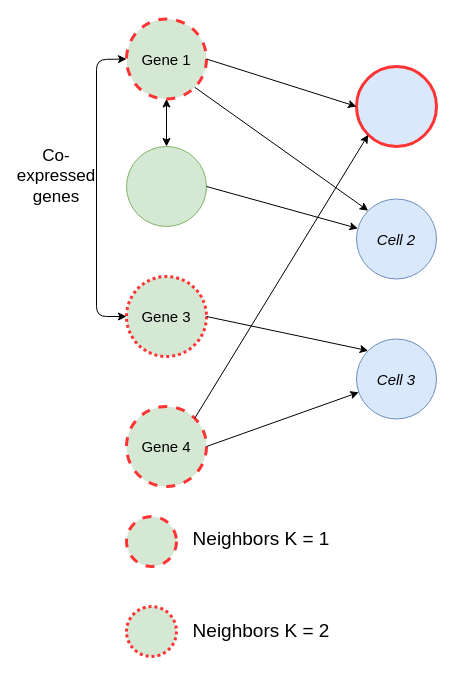
This 455x675 diagram has some shape labels left out. The shapes that lost their labels are listed below. From the top down, each one's box as (x1, y1, x2, y2) in pixels, then its label:
(354, 64, 438, 148): Cell 1
(126, 146, 206, 226): Gene 2
